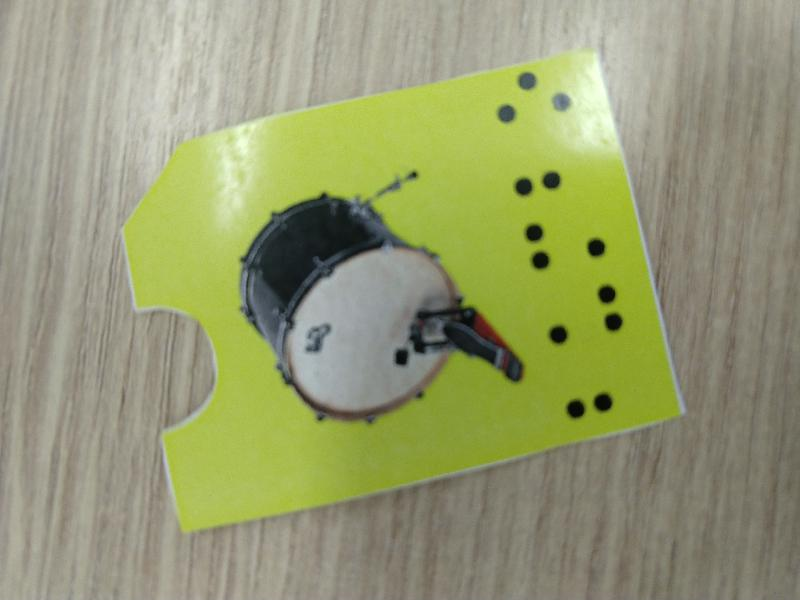bumbo: (124, 46, 688, 537)
